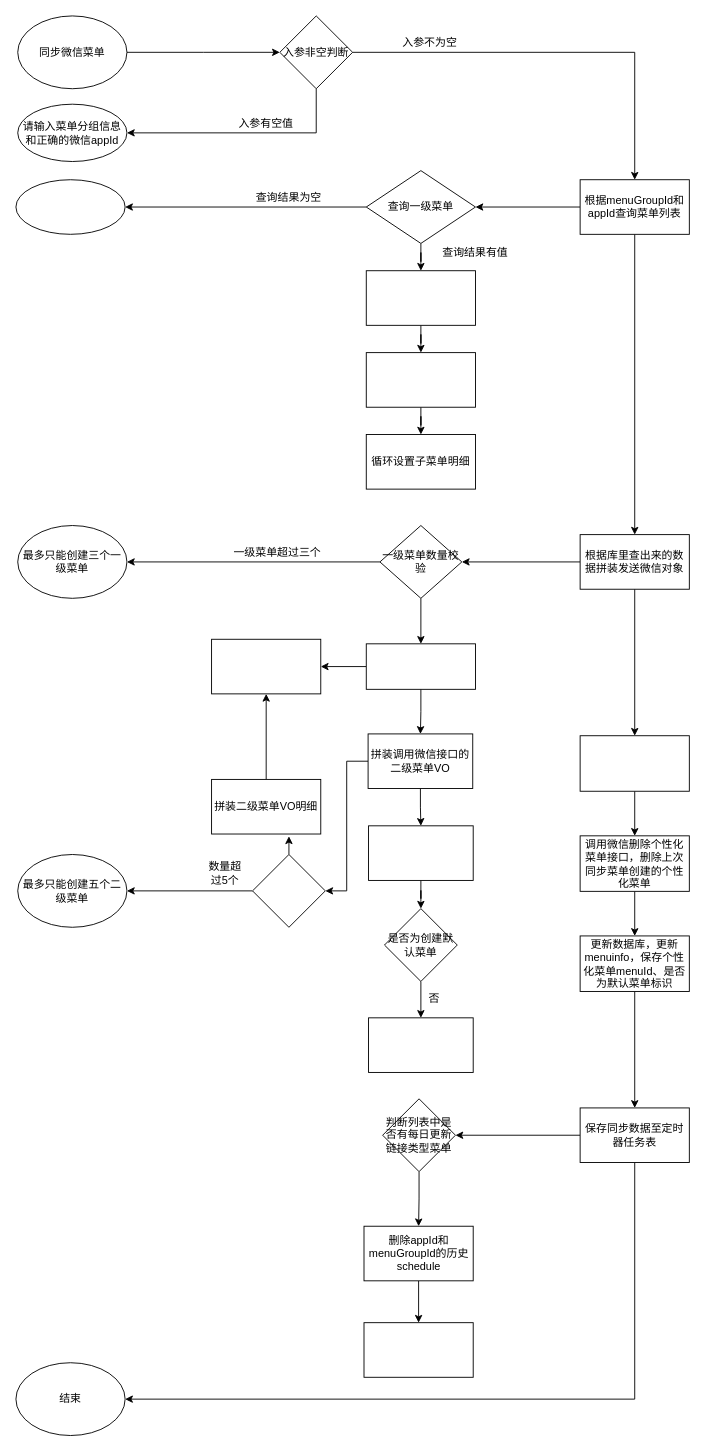
The diagram is 705 pixels wide and 1451 high, and some of its shapes have lost their labels. Each missing label, with the centre of its shape:
二级菜单数量校验: pixel 288 890
将二级菜单添加到一级菜单的子菜单中: pixel 420 852
将要定时器执行同步菜单的信息保存如任务表: pixel 418 1349
拼装菜单VO明细: pixel 266 666
拼装调用微信接口的一级菜单VO明细: pixel 420 666
查询所有子菜单: pixel 420 379
根据分组Id和appId未查询到对应的菜单: pixel 70 206
添加个性化菜单内容至微信VO中: pixel 420 1044
设置一级菜单明细: pixel 420 297
调用微信创建菜单接口，返回menuId: pixel 634 763
